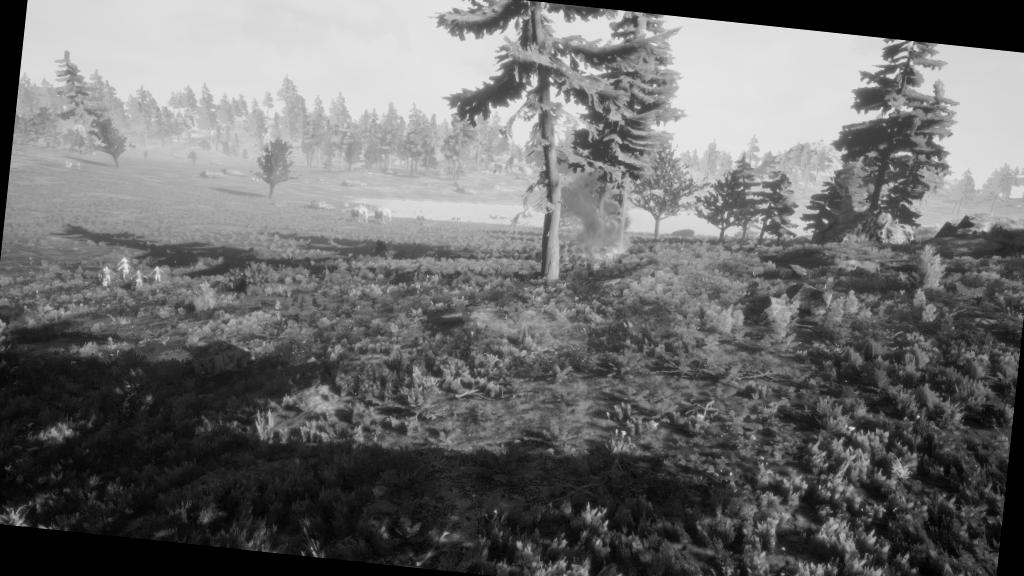Fire: (581, 230, 634, 272)
elephant: (350, 204, 369, 222), (374, 206, 394, 223), (498, 213, 509, 221), (490, 213, 500, 220)
human: (119, 259, 132, 278), (100, 263, 111, 285), (152, 262, 165, 280), (135, 274, 147, 288)
smoke: (556, 182, 629, 230)
